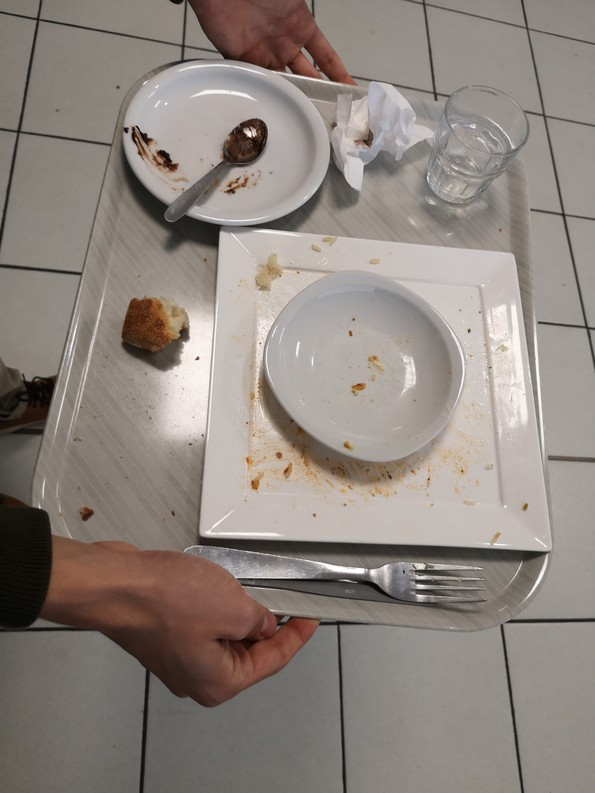cup: (430, 92, 534, 202)
cutlery: (185, 533, 493, 630), (158, 121, 278, 220)
orga: (105, 292, 196, 357)
trash: (316, 73, 429, 206)
